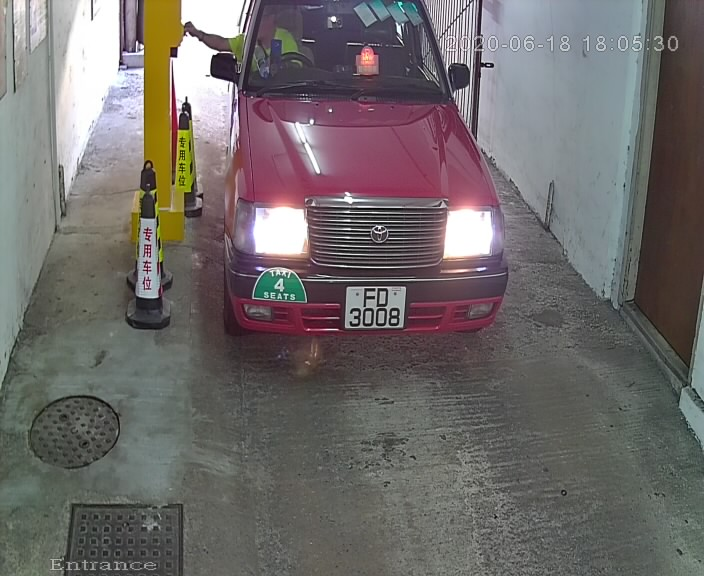taxi: (214, 2, 529, 356)
taxi_mark: (244, 255, 321, 312)
